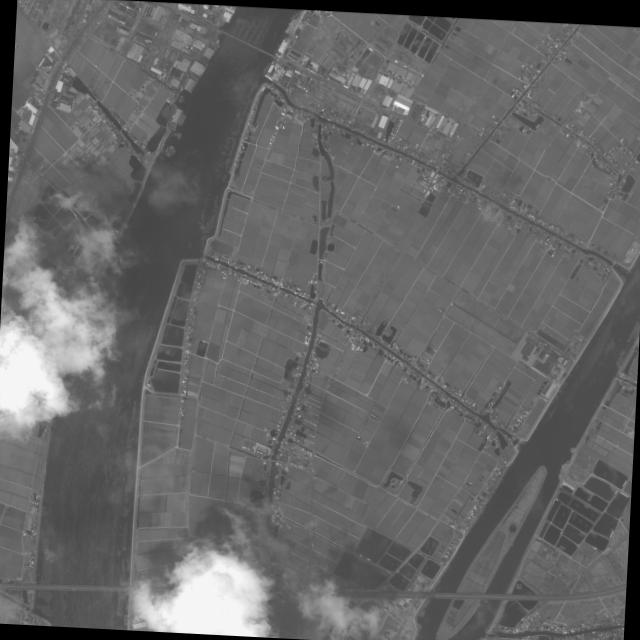ship: (168, 147, 174, 158), (176, 132, 180, 140), (178, 98, 183, 103), (164, 146, 168, 152), (171, 150, 175, 156), (178, 133, 181, 140), (177, 99, 181, 103), (179, 96, 184, 99), (179, 95, 183, 98)
